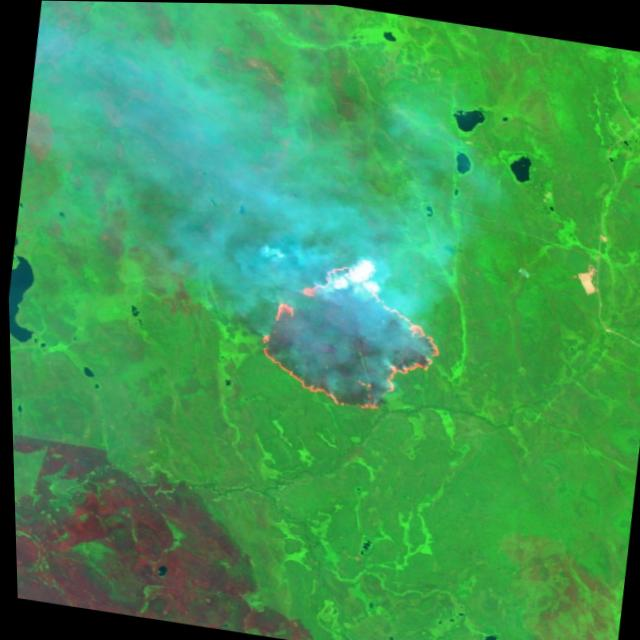fire: (241, 247, 457, 422)
